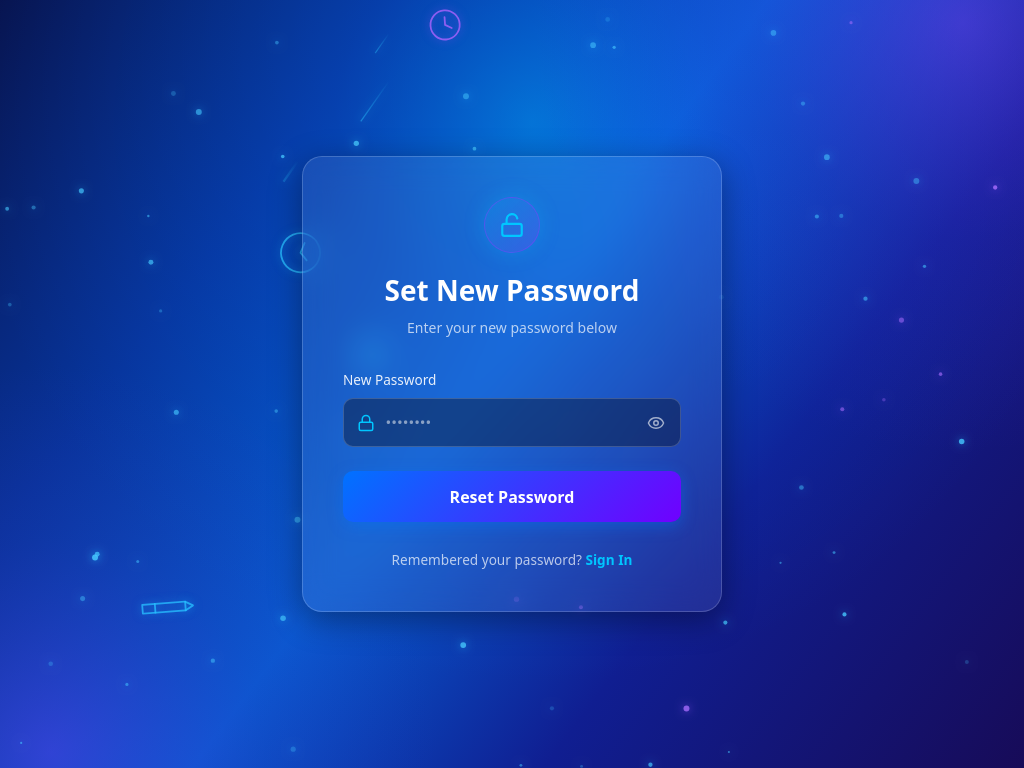
Test: ResetPasswordPage › checks the new password before sending it
Type "longenough1" into the password field with placeholder "••••••••".
click(512, 423); type("longenough1")  # box [343,398,681,447]
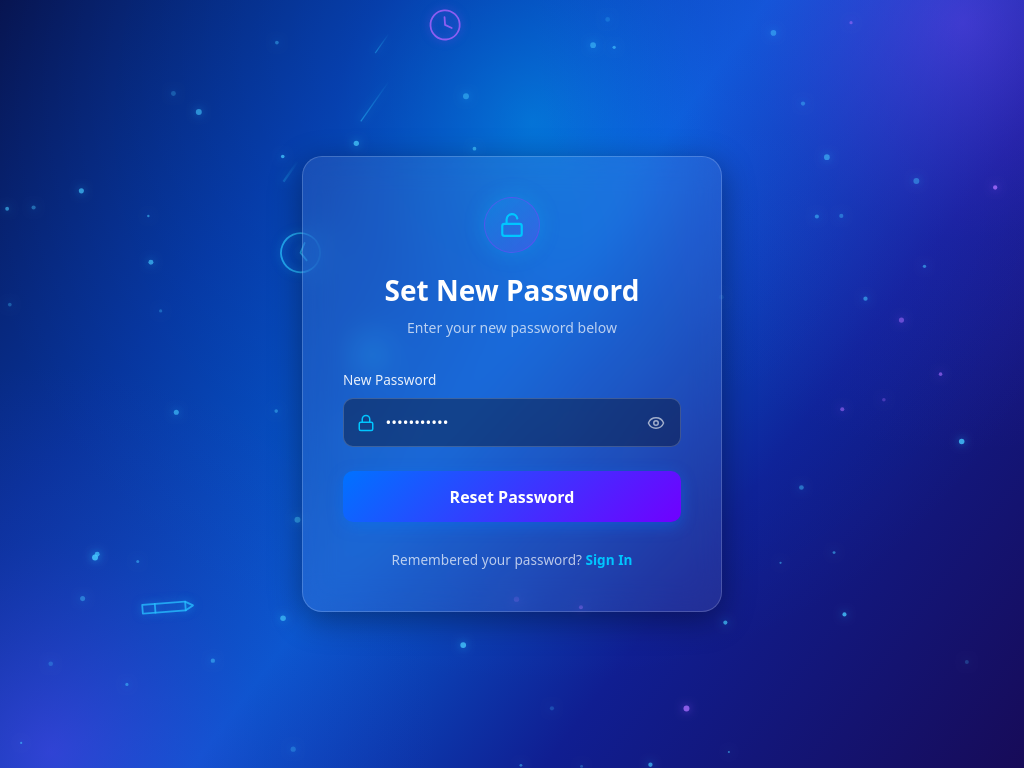
Submit the form with placeholder "••••••••", box [343,370,681,522]
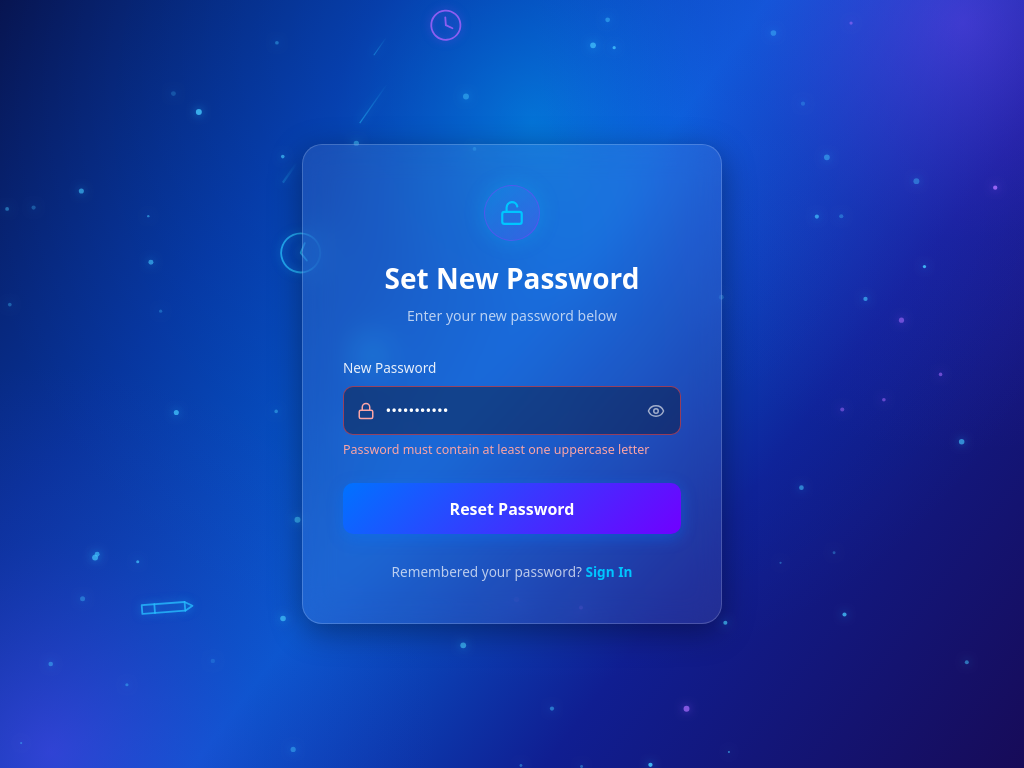
Expected: the text "Password must contain at least one uppercase letter" is shown, [343,440,681,459]
